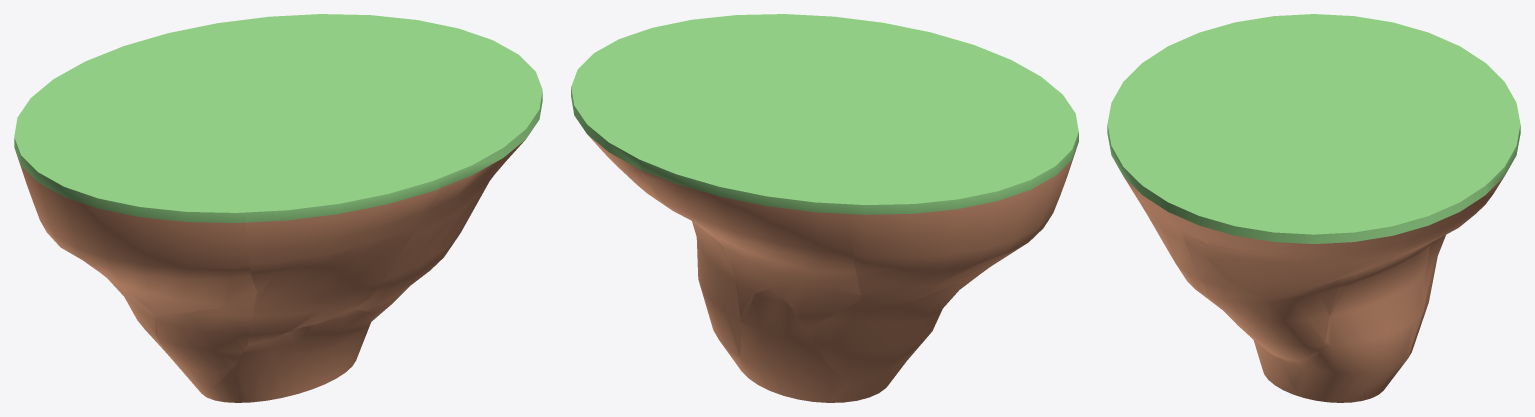
Rendered from prototipeBaseLevel.fbx.
The picture shows the model from 3 angles, left to right: view 1: azimuth 30°, elevation 25°; view 2: azimuth 150°, elevation 25°; view 3: azimuth 270°, elevation 25°; orthographic projection. The views are drawn at different scales.
Visible parts, largest first — view 1: pievce 1.001, piece 2.001, base piece.001, piece 3.001, piece 12.001, piece 6.001, piece 8.001, piece 11.001, piece 10.001, piece 9.001, piece 5.001, piece 7.001 (+1 smaller); view 2: piece 6.001, base piece.001, piece 5.001, piece 11.001, pievce 1.001, piece 10.001, piece 2.001, piece 8.001, piece 7.001, piece 3.001, piece 9.001, piece 12.001 (+1 smaller); view 3: piece 10.001, piece 8.001, base piece.001, piece 9.001, pievce 1.001, piece 6.001, piece 2.001, piece 3.001, piece 7.001, piece 11.001, piece 4.001, piece 5.001 (+1 smaller).
Part boxes in pixels (box(x1,y1,x2,y2)): pievce 1.001: box(20, 147, 256, 314); piece 2.001: box(245, 154, 439, 344); base piece.001: box(170, 64, 375, 402); piece 3.001: box(354, 129, 519, 312); piece 12.001: box(151, 103, 256, 387); piece 6.001: box(64, 17, 289, 90); piece 8.001: box(403, 21, 524, 186); piece 11.001: box(57, 79, 178, 350); piece 10.001: box(250, 36, 402, 344); piece 9.001: box(372, 61, 500, 319); piece 5.001: box(14, 73, 110, 195); piece 7.001: box(265, 14, 424, 60); piece 6.001: box(642, 141, 861, 329); base piece.001: box(733, 63, 919, 402); piece 5.001: box(849, 170, 1024, 304); piece 11.001: box(809, 138, 998, 383); pievce 1.001: box(954, 73, 1078, 275); piece 10.001: box(634, 76, 778, 362); piece 2.001: box(869, 21, 1035, 100); piece 8.001: box(571, 23, 749, 110); piece 7.001: box(573, 91, 673, 203); piece 3.001: box(750, 14, 874, 65); piece 9.001: box(662, 24, 814, 90); piece 12.001: box(853, 81, 980, 389); piece 10.001: box(1270, 138, 1450, 402); piece 8.001: box(1179, 191, 1422, 296); base piece.001: box(1200, 89, 1443, 401); piece 9.001: box(1179, 149, 1356, 361); pievce 1.001: box(1139, 14, 1360, 81); piece 6.001: box(1423, 69, 1520, 311); piece 2.001: box(1107, 66, 1248, 157); piece 3.001: box(1113, 131, 1231, 303); piece 7.001: box(1357, 163, 1505, 272); piece 11.001: box(1308, 32, 1435, 103); piece 4.001: box(1160, 193, 1299, 250); piece 5.001: box(1351, 17, 1491, 76).
Size of the model in its own units: 1362 by 739 by 1077.
